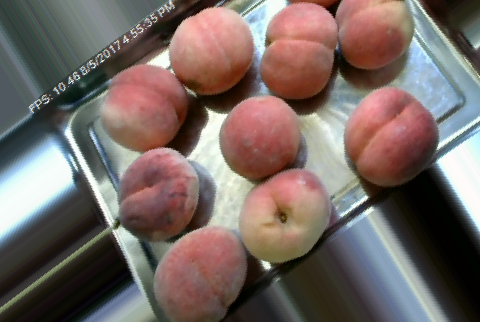Peach: (341, 84, 440, 187), (236, 167, 332, 266), (153, 222, 248, 320), (114, 147, 202, 241), (99, 64, 187, 151), (262, 0, 339, 99), (169, 5, 251, 96), (217, 95, 298, 180), (333, 0, 414, 71)
